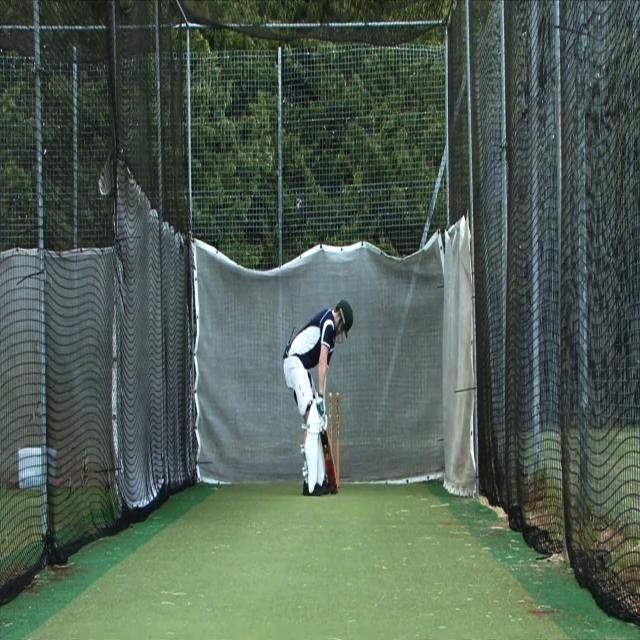batsman: (282, 297, 355, 498)
